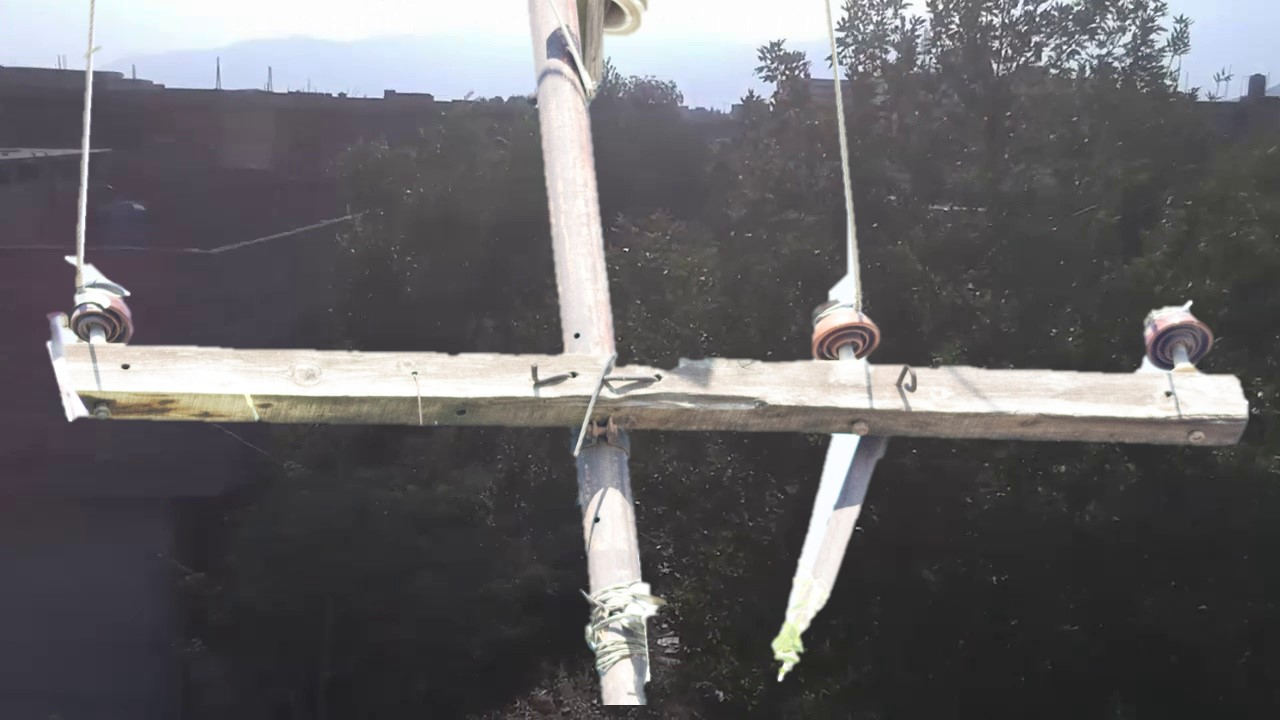defect_pin: (67, 282, 137, 345)
insulator_pin: (1143, 300, 1217, 368), (807, 296, 887, 358)
